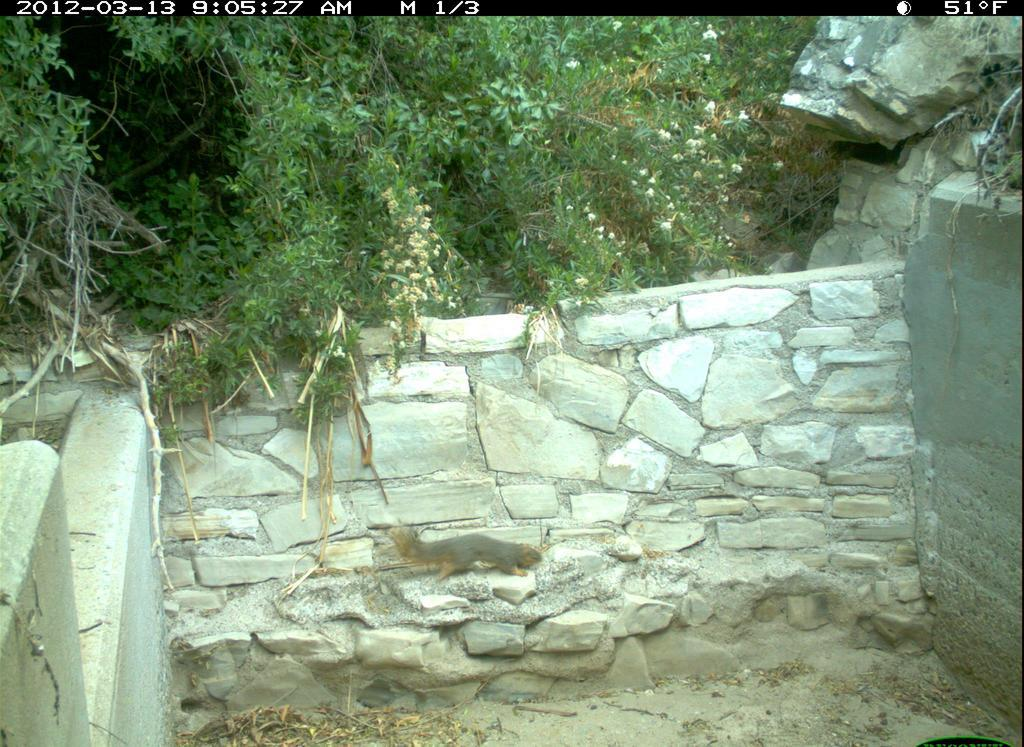squirrel: (370, 506, 559, 597)
